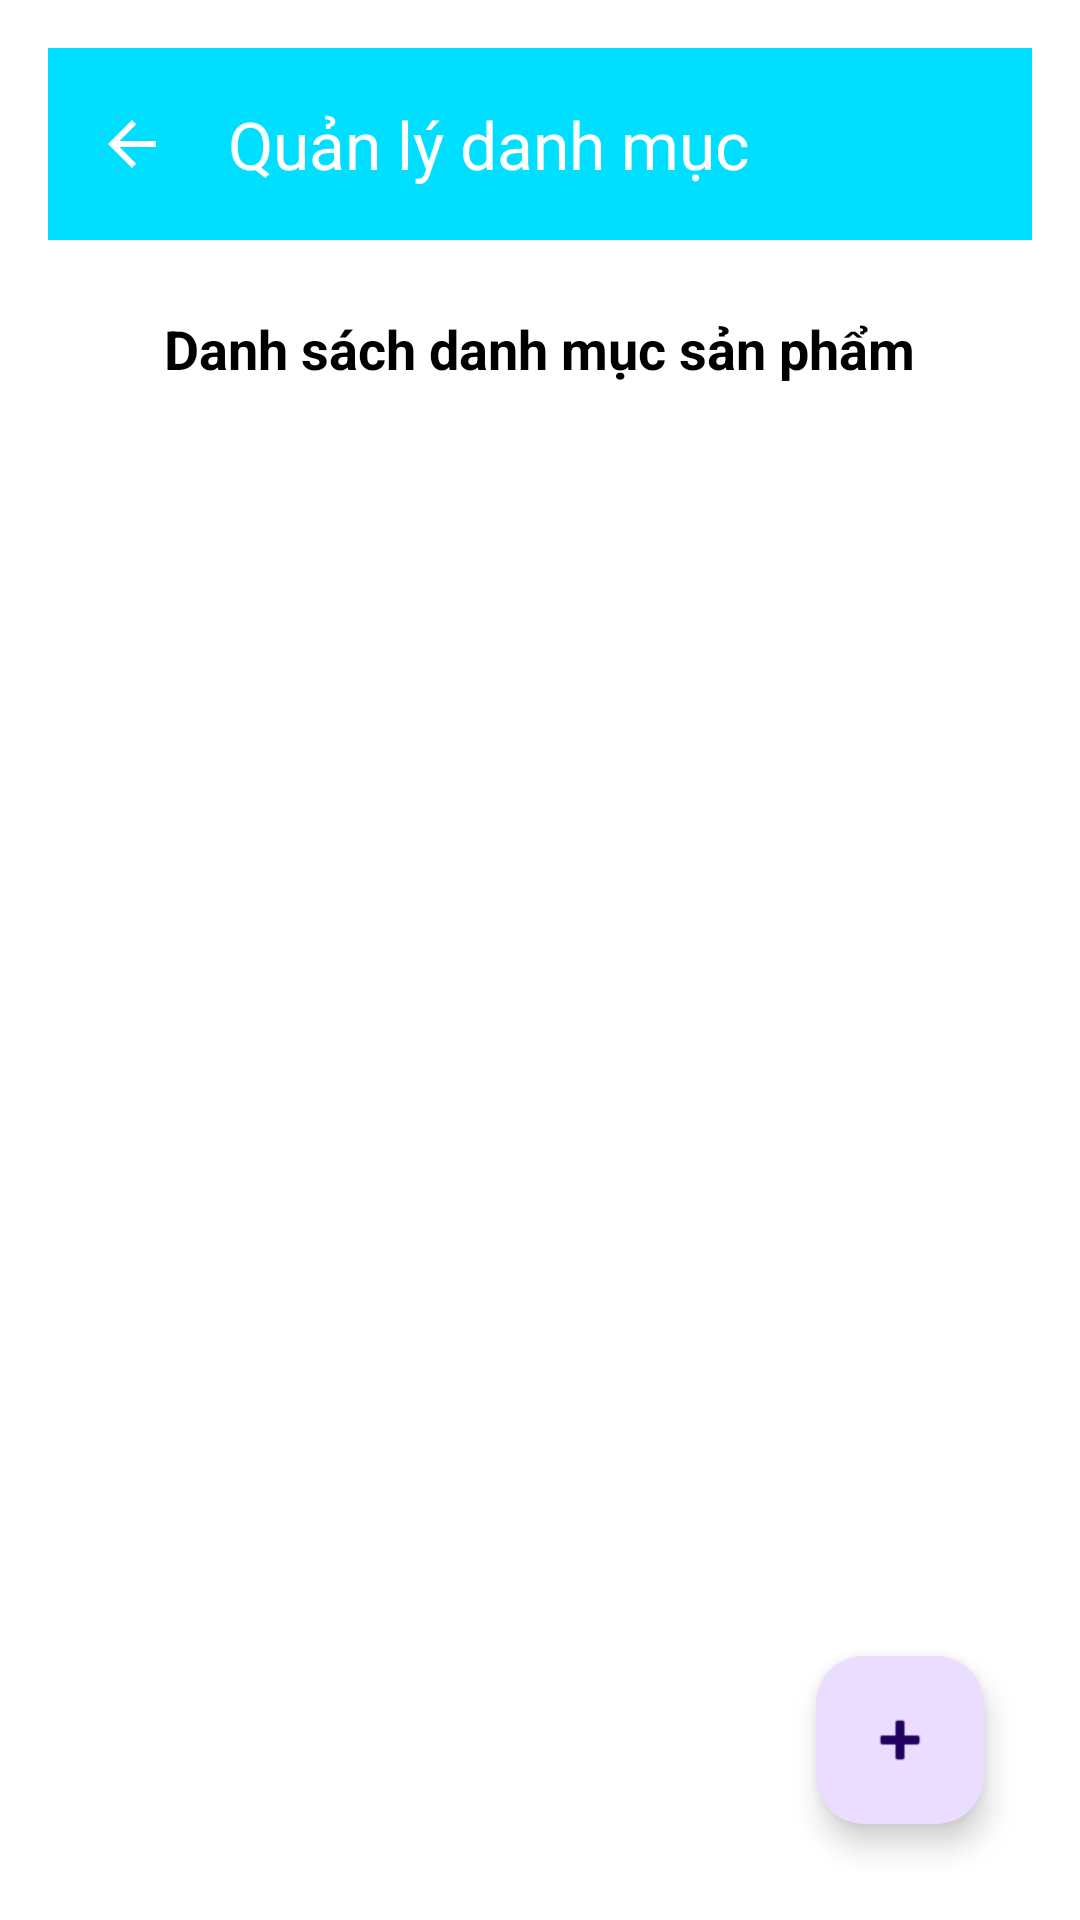

Where icons sit on this 1080w x 1920h app screen, as (left=x1, top=y1, right=x2, bottom=y2):
Thêm danh mục: (left=816, top=1656, right=984, bottom=1824)
